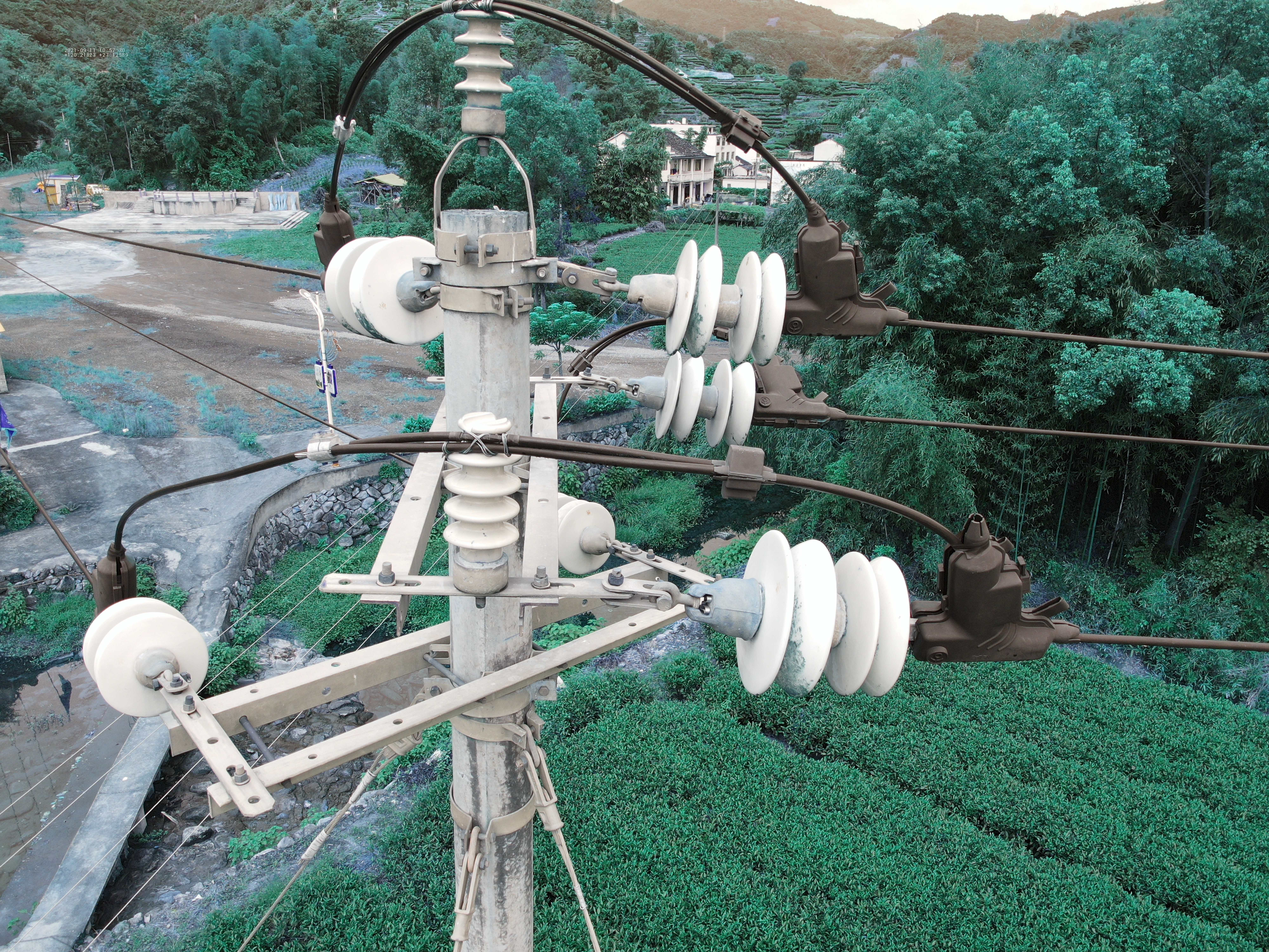severe_soiling_no_discharge_whole: (683, 527, 913, 698), (625, 232, 792, 370), (320, 231, 440, 348)
